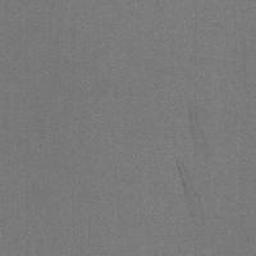Water spot: (176, 160, 202, 215), (189, 108, 207, 151)
